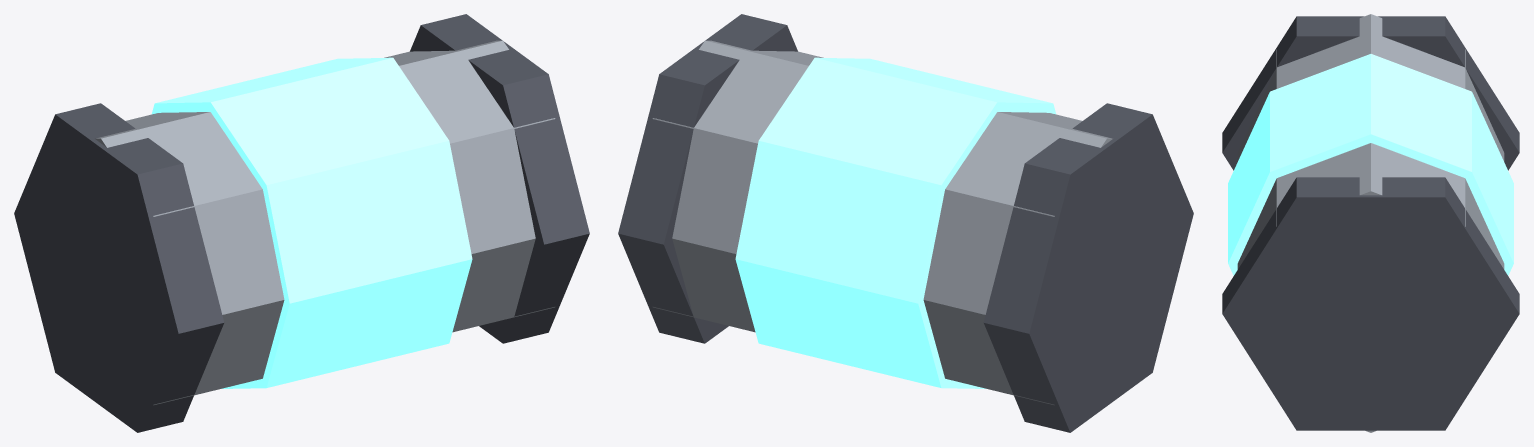
Rendered from celula_energia.glb.
3 renders of one model, left to right at view 1: azimuth 30°, elevation 25°; view 2: azimuth 150°, elevation 25°; view 3: azimuth 270°, elevation 25°, orthographic. The views are drawn at different scales.
Visible parts, largest first — view 1: celula_energia; view 2: celula_energia; view 3: celula_energia.
Part boxes in pixels (box(x1,y1,x2,y2)): celula_energia: box(14, 14, 589, 432); celula_energia: box(618, 14, 1193, 432); celula_energia: box(1222, 14, 1519, 432).
Size of the model in its own units: 0.225 by 0.15 by 0.156.
